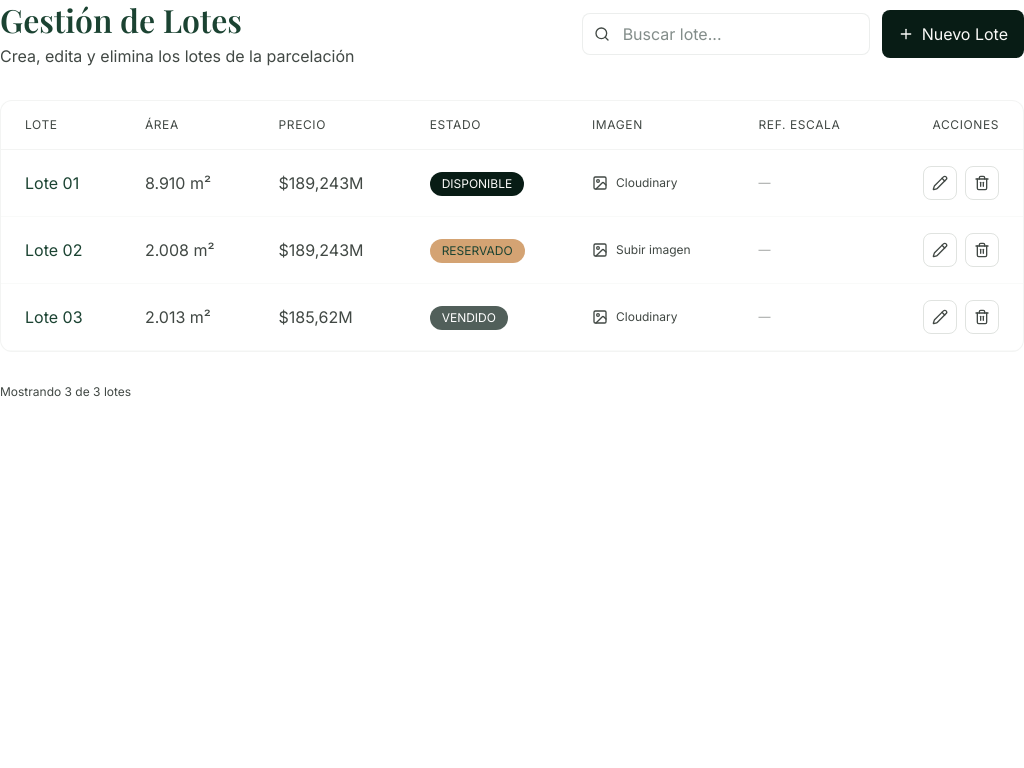
Test: LotsPage › Create lot modal › validates that lot ID is required
Click the button "Nuevo Lote": (953, 34) [882,10,1023,58]
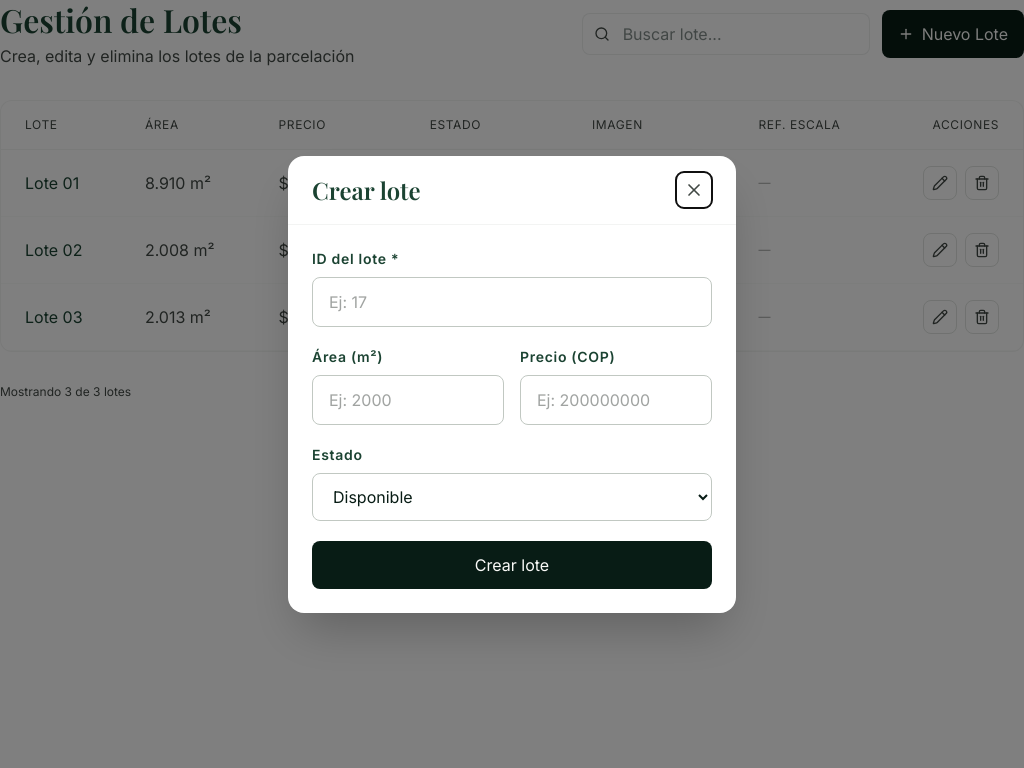
Submit the form, box [288,224,736,612]
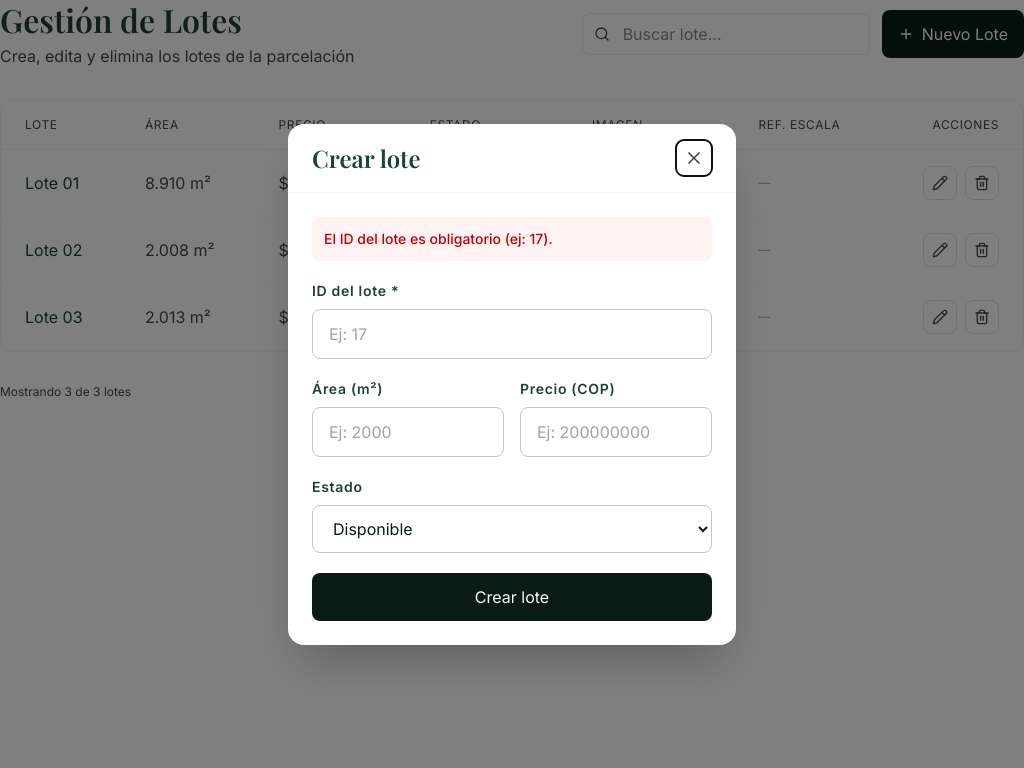
Now the text "El ID del lote es obligatorio (ej: 17)." is shown, box [312,216,712,260]
